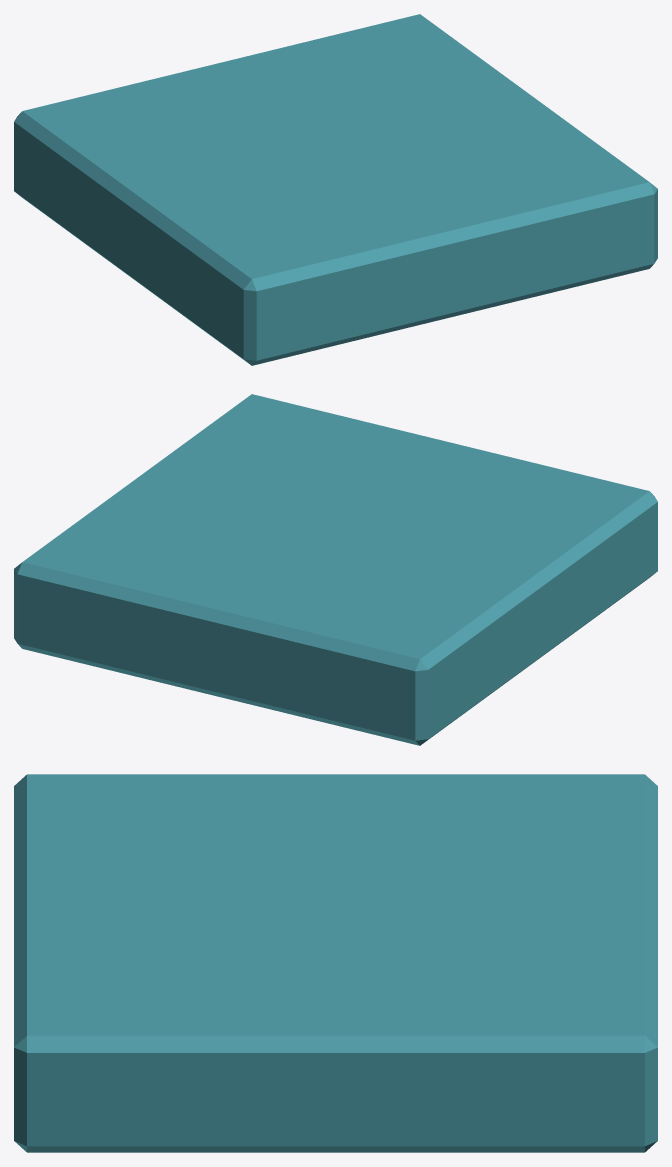
Rendered from Floor.fbx.
3 renders of one model, top to bottom at view 1: azimuth 30°, elevation 25°; view 2: azimuth 150°, elevation 25°; view 3: azimuth 270°, elevation 25°, orthographic. The views are drawn at different scales.
Parts seen in each view (by area): view 1: pCube1; view 2: pCube1; view 3: pCube1.
Part boxes in pixels (x1=…): pCube1: x1=14, y1=14, x2=657, y2=365; pCube1: x1=14, y1=394, x2=657, y2=745; pCube1: x1=14, y1=774, x2=657, y2=1152.
Bounding box in the file's own units: 1 × 0.2 × 1.
